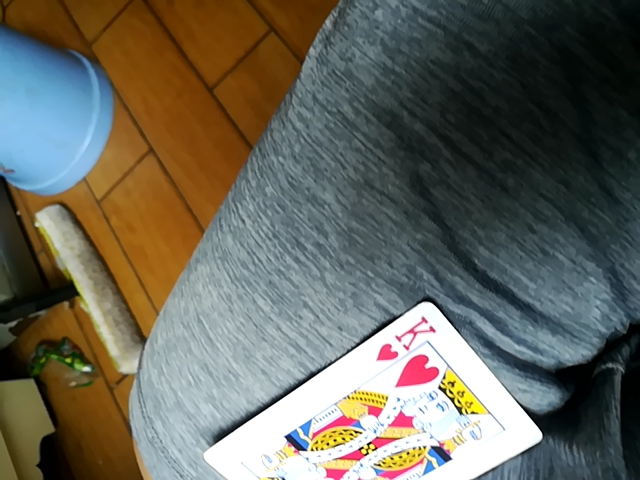hx k: (197, 299, 542, 479)
